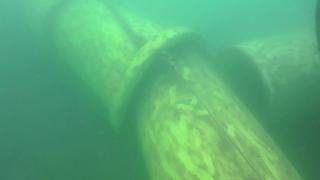pipe: (1, 1, 209, 136), (129, 44, 302, 180), (218, 27, 320, 130)
